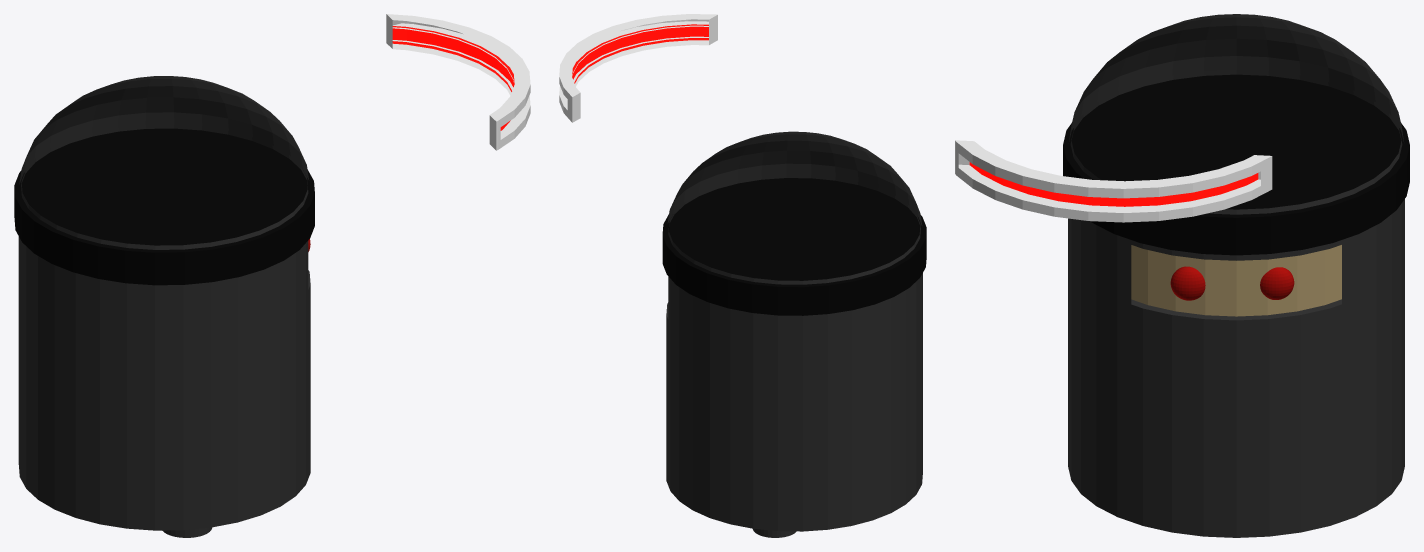
File: Character.fbx
3 renders of one model, left to right at view 1: azimuth 30°, elevation 25°; view 2: azimuth 150°, elevation 25°; view 3: azimuth 270°, elevation 25°, orthographic. The views are drawn at different scales.
Visible parts, largest first — view 1: Character, Cylinder.001; view 2: Character, Cylinder.001; view 3: Character, Cylinder.001.
Part boxes in pixels (x1,y1,x2,y2): Character: [14, 76, 314, 537]; Cylinder.001: [386, 14, 530, 150]; Character: [662, 131, 926, 537]; Cylinder.001: [559, 14, 717, 122]; Character: [1063, 14, 1409, 537]; Cylinder.001: [955, 140, 1272, 222].
Size of the model in its own units: 337 by 323 by 270.
